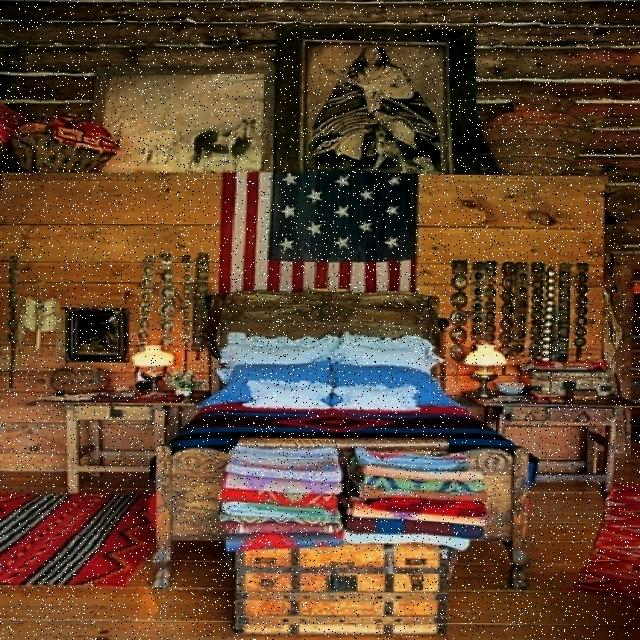bed: (170, 331, 510, 436)
